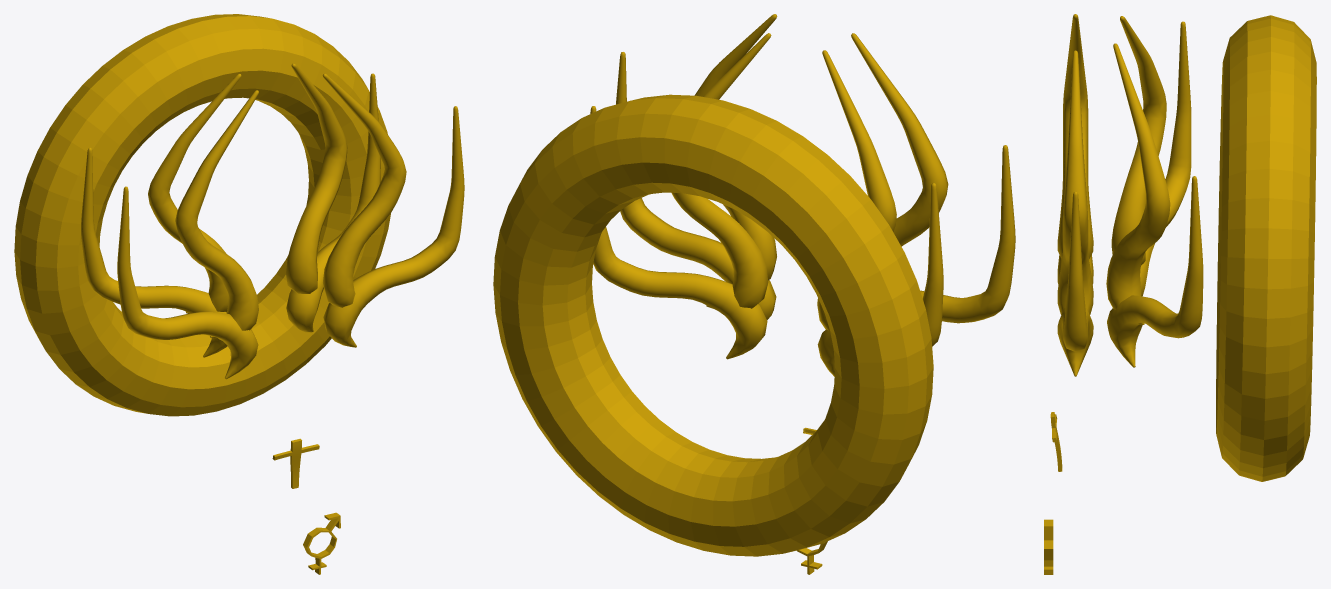
Rendered from HolyDemonFasist(G).obj.
The picture shows the model from 3 angles, left to right: view 1: azimuth 30°, elevation 25°; view 2: azimuth 150°, elevation 25°; view 3: azimuth 270°, elevation 25°; orthographic projection. The views are drawn at different scales.
Parts seen in each view (by area): view 1: Gold_Cube.004; view 2: Gold_Cube.004; view 3: Gold_Cube.004.
Boxes of the visible parts, x1,y1,x2,y2 form: Gold_Cube.004: (14, 14, 464, 574); Gold_Cube.004: (493, 14, 1015, 574); Gold_Cube.004: (1044, 14, 1316, 574).
Size of the model in its own units: 5.35 by 6.74 by 3.12.
